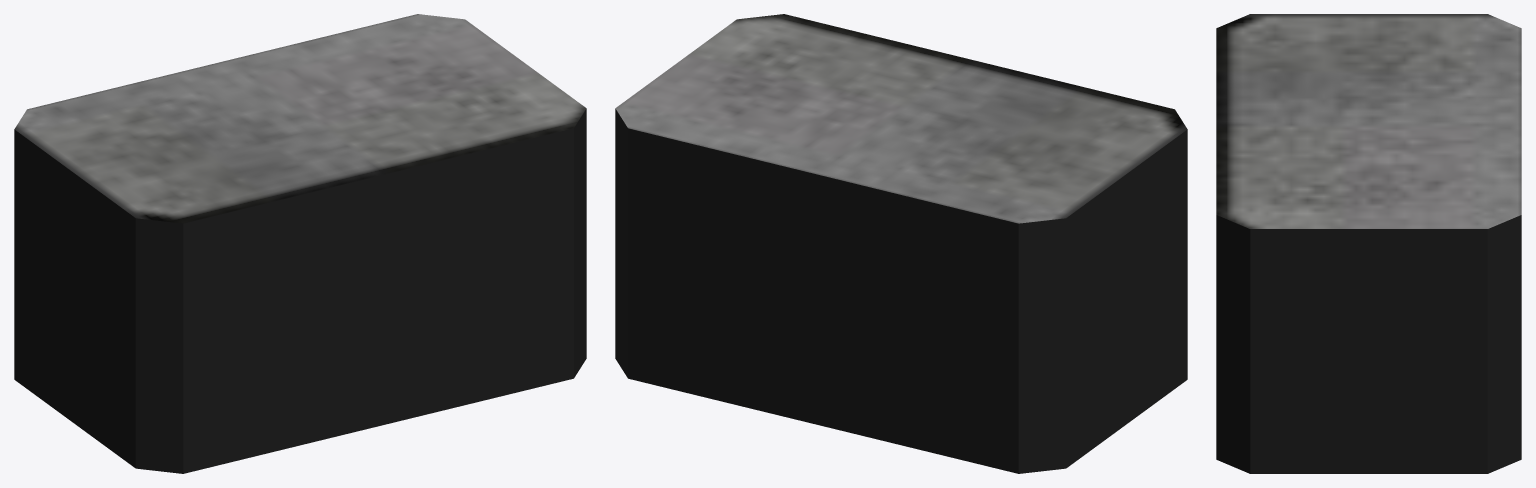
File: red_workbench.dae
3 views of the same model, side by side, from view 1: azimuth 30°, elevation 25°; view 2: azimuth 150°, elevation 25°; view 3: azimuth 270°, elevation 25° (orthographic). The views are drawn at different scales.
Visible parts, largest first — view 1: object; view 2: object; view 3: object.
Boxes of the visible parts, bbox=[...] form: object: bbox=[14, 14, 586, 473]; object: bbox=[615, 14, 1187, 473]; object: bbox=[1216, 14, 1521, 473].
Bounding box in the file's own units: 0.75 × 0.45 × 0.398.
2 materials, 1 textured.
